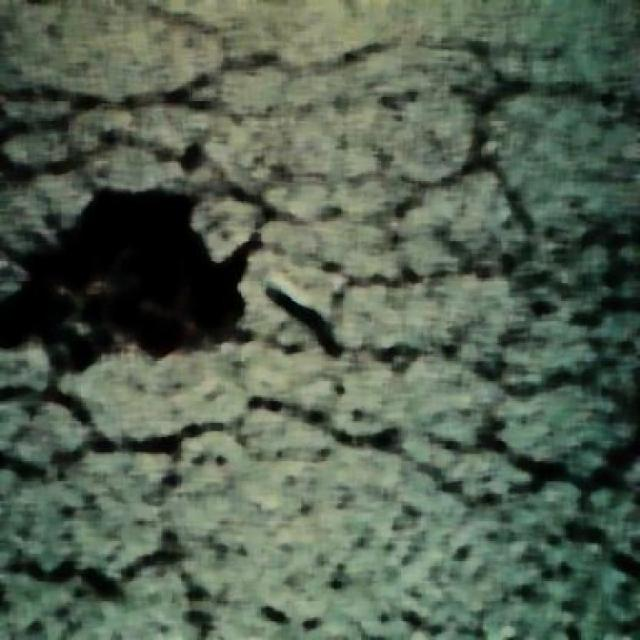Pothole: (0, 186, 212, 355)
